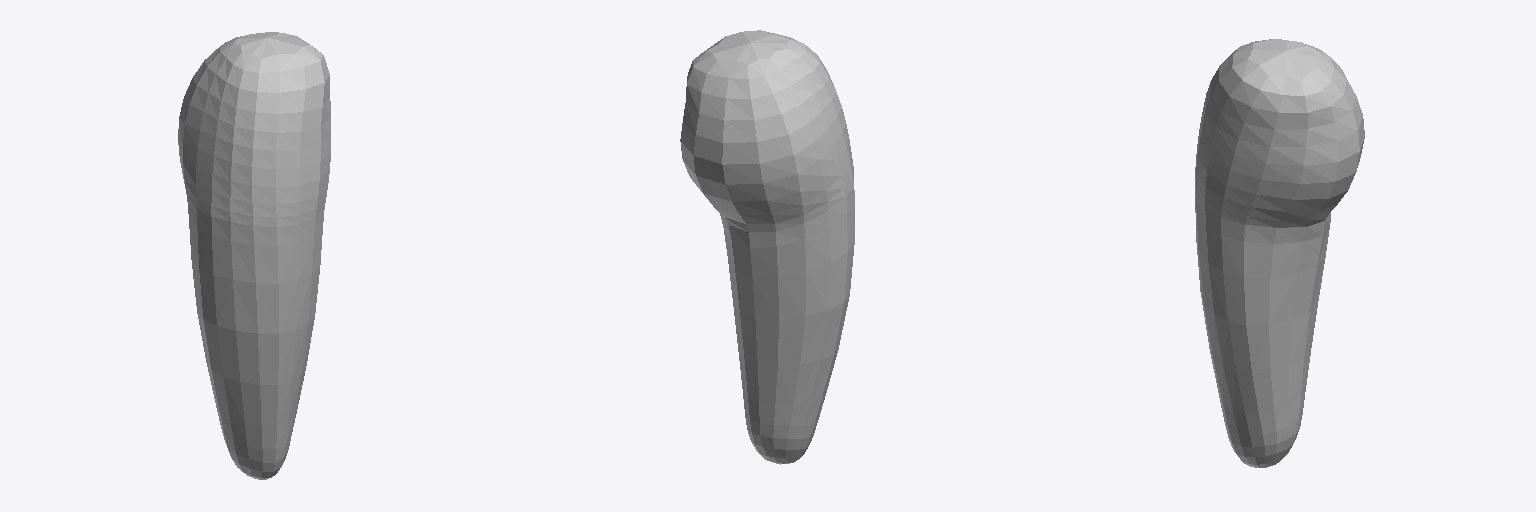
The model's file is Harley_Pierna_R_1.obj.
3 renders of one model, left to right at view 1: azimuth 30°, elevation 25°; view 2: azimuth 150°, elevation 25°; view 3: azimuth 270°, elevation 25°, orthographic.
Visible parts, largest first — view 1: Harley_Pierna_R_1; view 2: Harley_Pierna_R_1; view 3: Harley_Pierna_R_1.
Part boxes in pixels (x1,y1,x2,y2): Harley_Pierna_R_1: (178, 32, 330, 479); Harley_Pierna_R_1: (680, 30, 854, 464); Harley_Pierna_R_1: (1195, 39, 1364, 467).
Bounding box in the file's own units: 0.1763 × 0.52 × 0.1886.